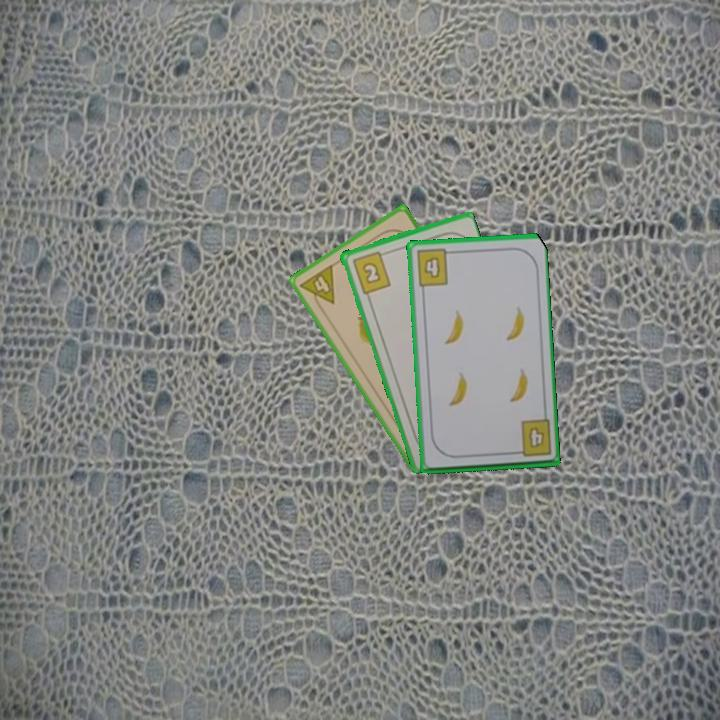2b: (348, 247, 393, 296)
4b: (509, 416, 554, 460), (413, 246, 456, 289)
4p: (296, 260, 338, 314)
